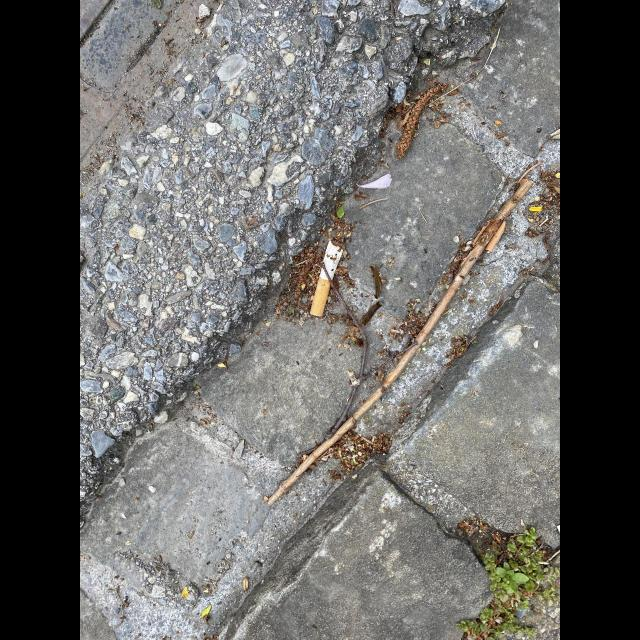cigarette: (310, 236, 346, 316)
